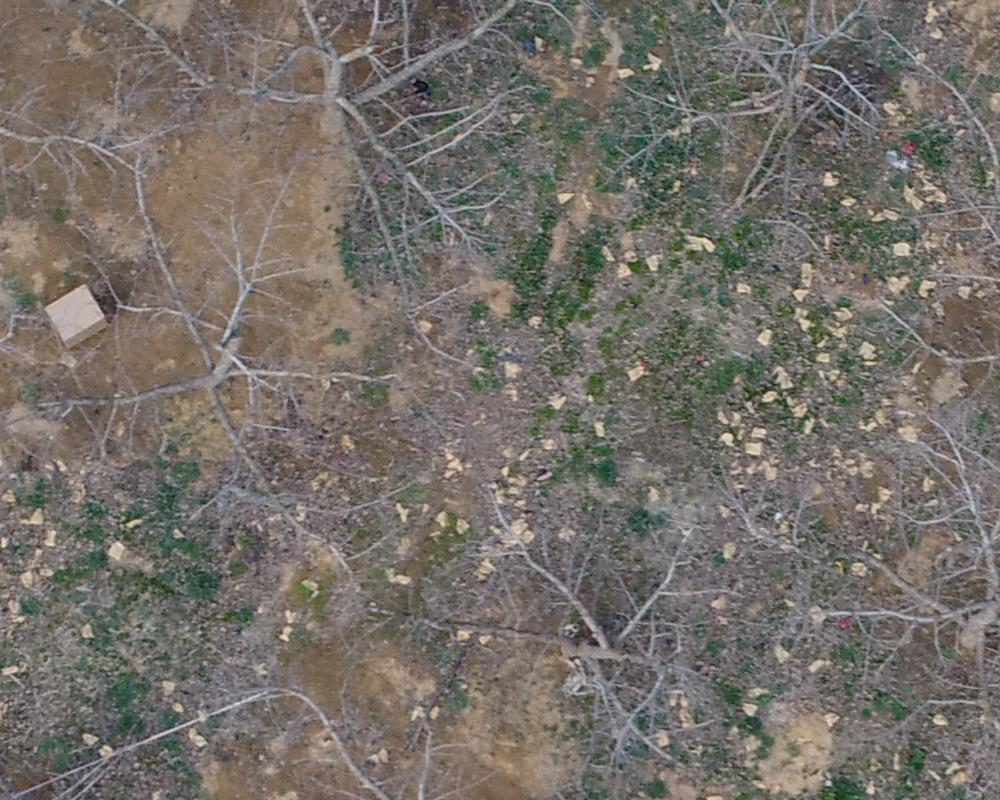apple: (24, 10, 599, 378), (36, 183, 431, 579), (377, 503, 735, 769), (600, 10, 937, 260), (754, 428, 990, 729)
